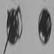correct: (38, 6, 52, 48)
not correct: (5, 5, 22, 51)
